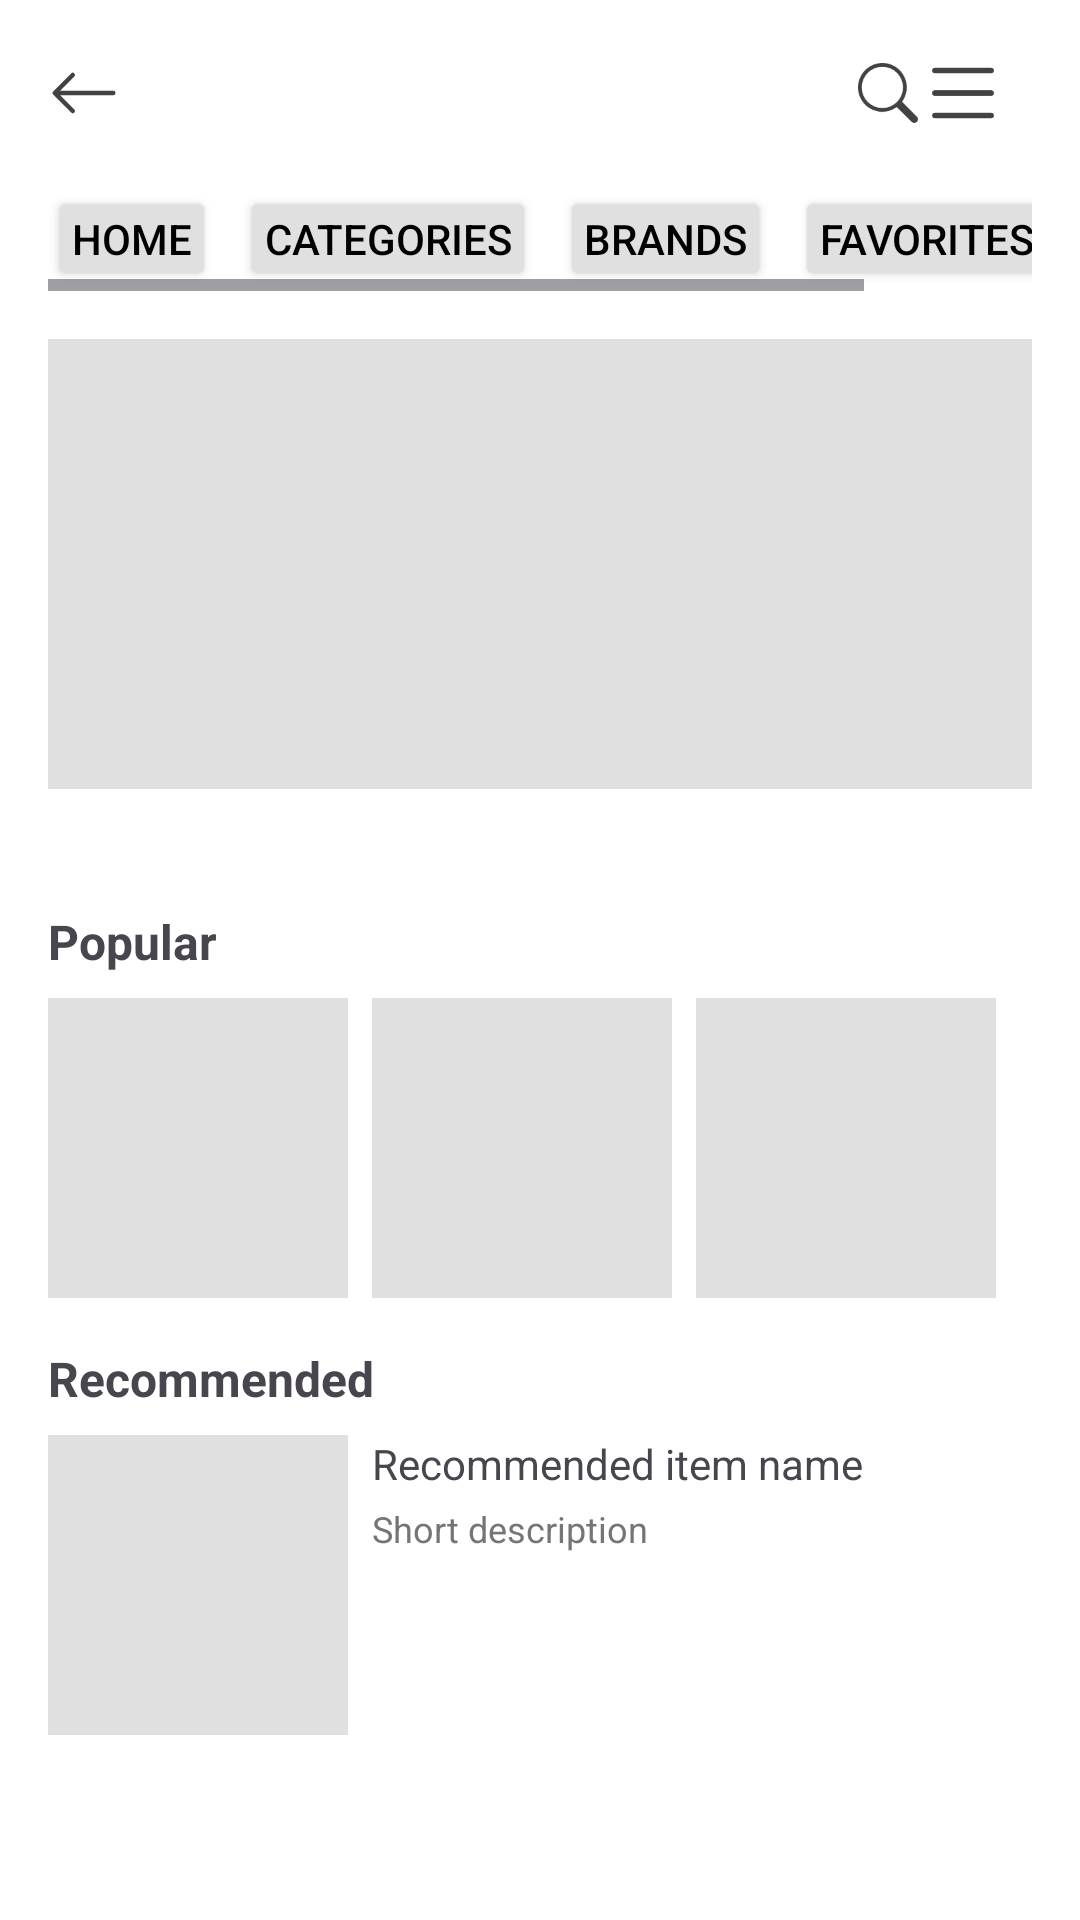

Point at icon controls on the screen. Image size 1080x1920, points as [x,y].
Back button: [84,93]
Menu button: [963,93]
Search button: [888,93]
